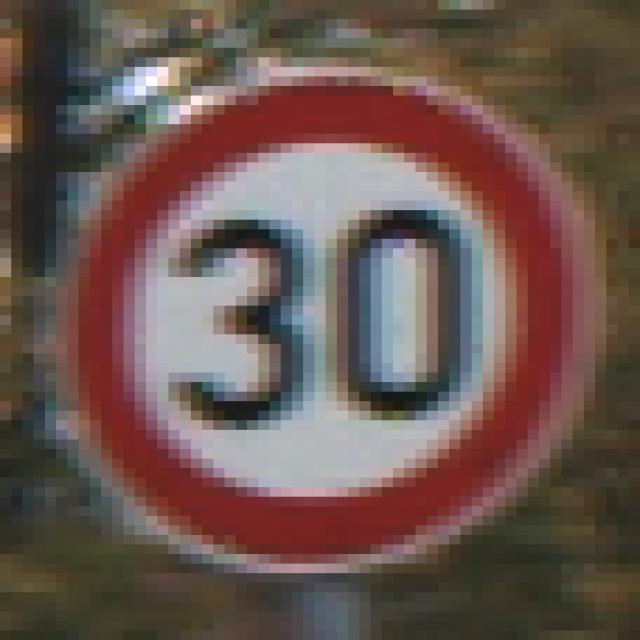Speed Limit -30-: (51, 52, 578, 578)
